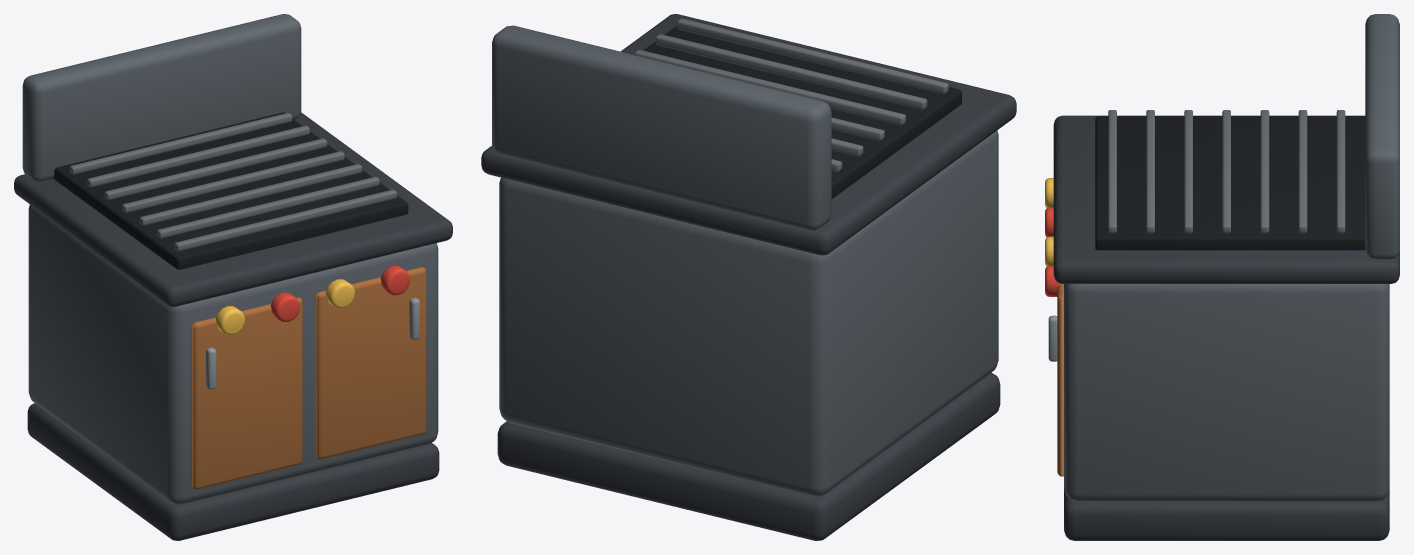
Rendered from st_grill.glb.
The picture shows the model from 3 angles, left to right: view 1: azimuth 30°, elevation 25°; view 2: azimuth 150°, elevation 25°; view 3: azimuth 270°, elevation 25°; orthographic projection. The views are drawn at different scales.
Parts seen in each view (by area): view 1: grill; view 2: grill; view 3: grill.
Part boxes in pixels (x1,y1,x2,y2): grill: [14, 14, 452, 540]; grill: [481, 14, 1016, 540]; grill: [1045, 14, 1399, 540].
Bounding box in the file's own units: 1.04 × 1.25 × 1.03.
Materials: 1 (1 with a texture image).
